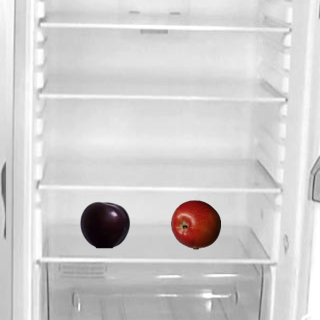Apple Braeburn: (170, 199, 220, 249)
Cherry Wax Black: (79, 199, 129, 249)
